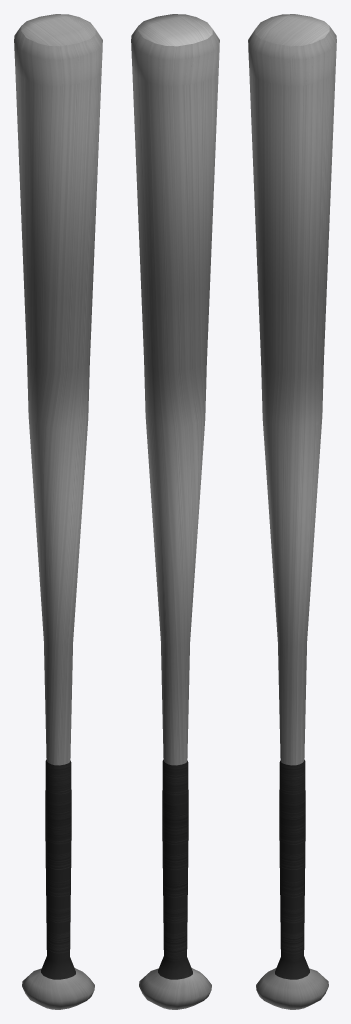
The model's file is 야구배트_알루미늄재질.fbx.
The picture shows the model from 3 angles, left to right: view 1: azimuth 30°, elevation 25°; view 2: azimuth 210°, elevation 25°; view 3: azimuth 330°, elevation 25°; orthographic projection.
Visible parts, largest first — view 1: Bat; view 2: Bat; view 3: Bat.
Part boxes in pixels (box(x1,y1,x2,y2)): Bat: box(14, 14, 102, 1009); Bat: box(131, 14, 219, 1009); Bat: box(248, 14, 336, 1009).
Bounding box in the file's own units: 5.67 × 69.56 × 5.67.
